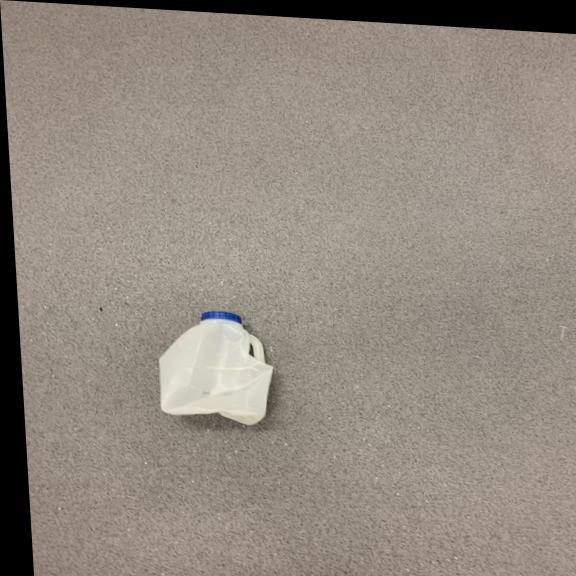Plastik: (151, 305, 290, 432)
